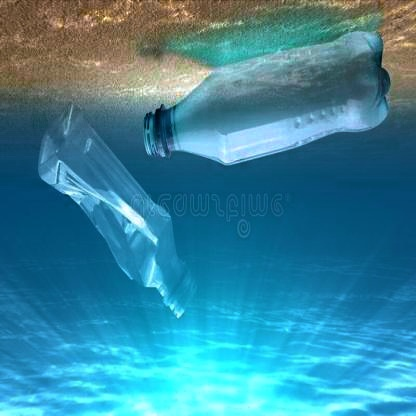pbottle: (37, 104, 198, 317), (142, 34, 389, 167)
